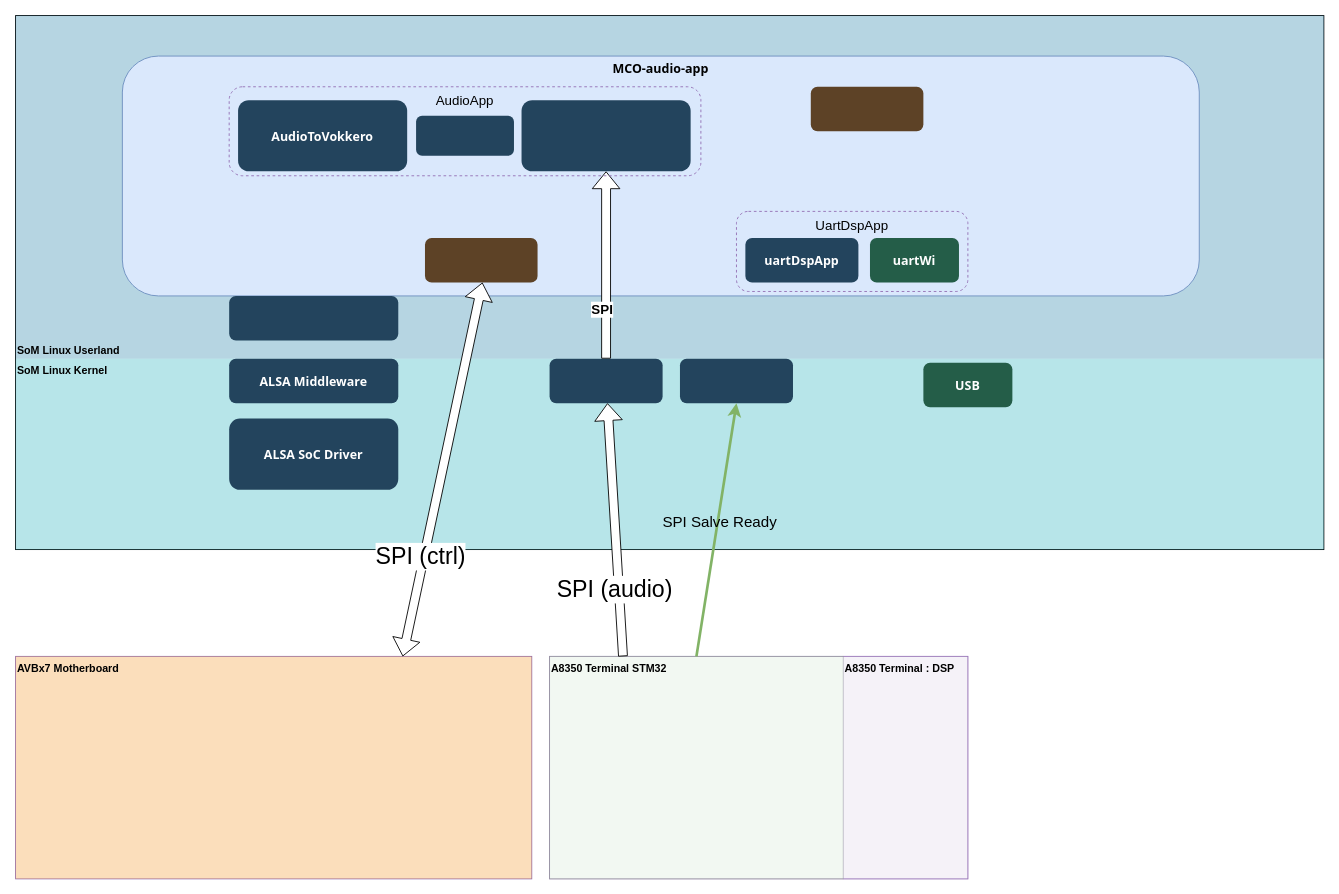
This 1339x894 diagram has some shape labels left out. The centre of each missing label's shape, as x and y in pixels:
"ALSA Lib" goes at point (313, 317).
"AudioFromVokkero" goes at point (605, 135).
"firmware Upgrade (STM)" goes at point (866, 108).
"Gpio" goes at point (736, 380).
"LibOpus" goes at point (465, 135).
"rackAuvitran" goes at point (481, 260).
"Spidev" goes at point (605, 380).
